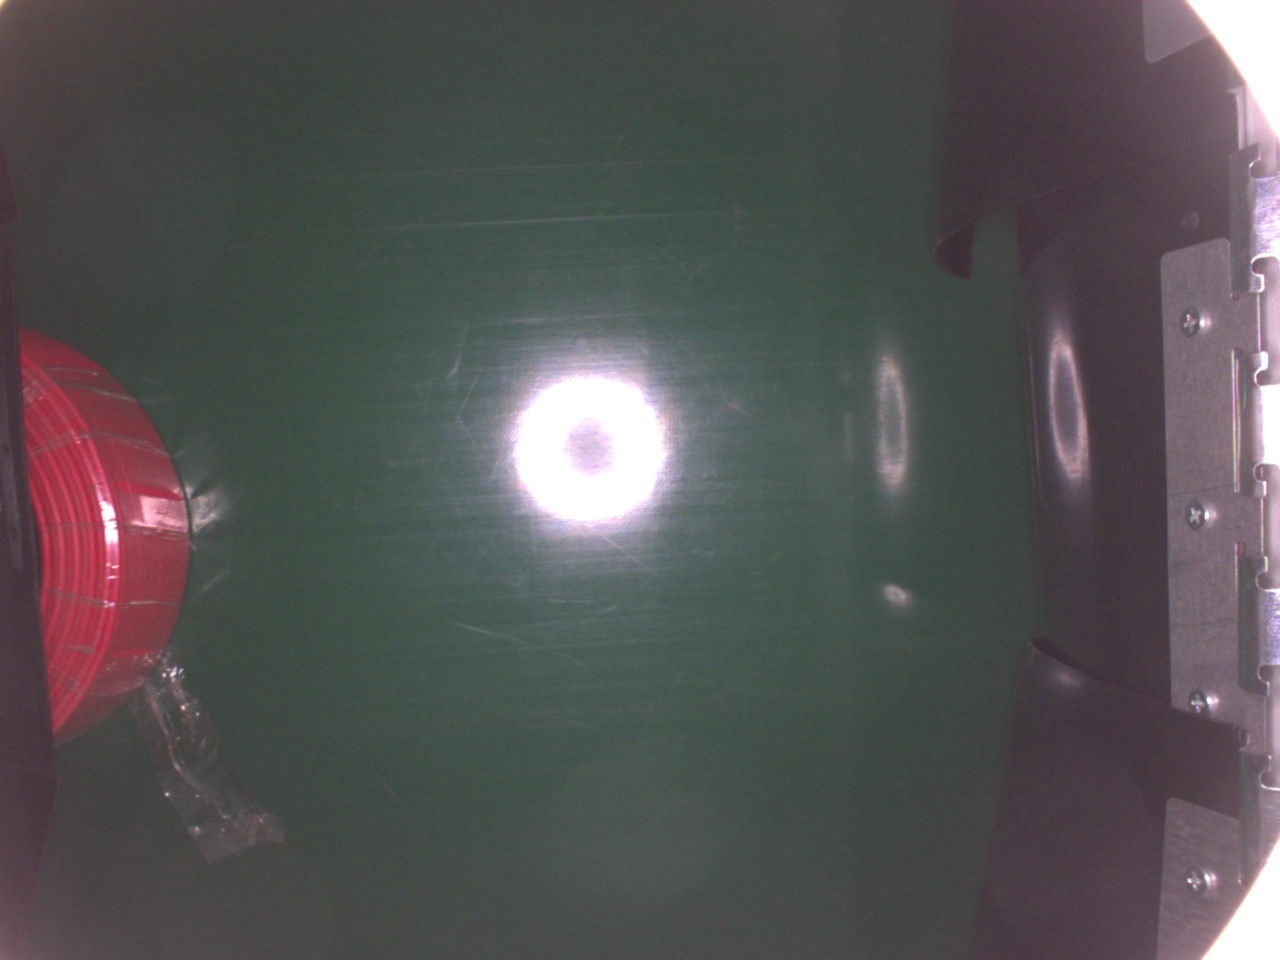red: (24, 327, 194, 745)
